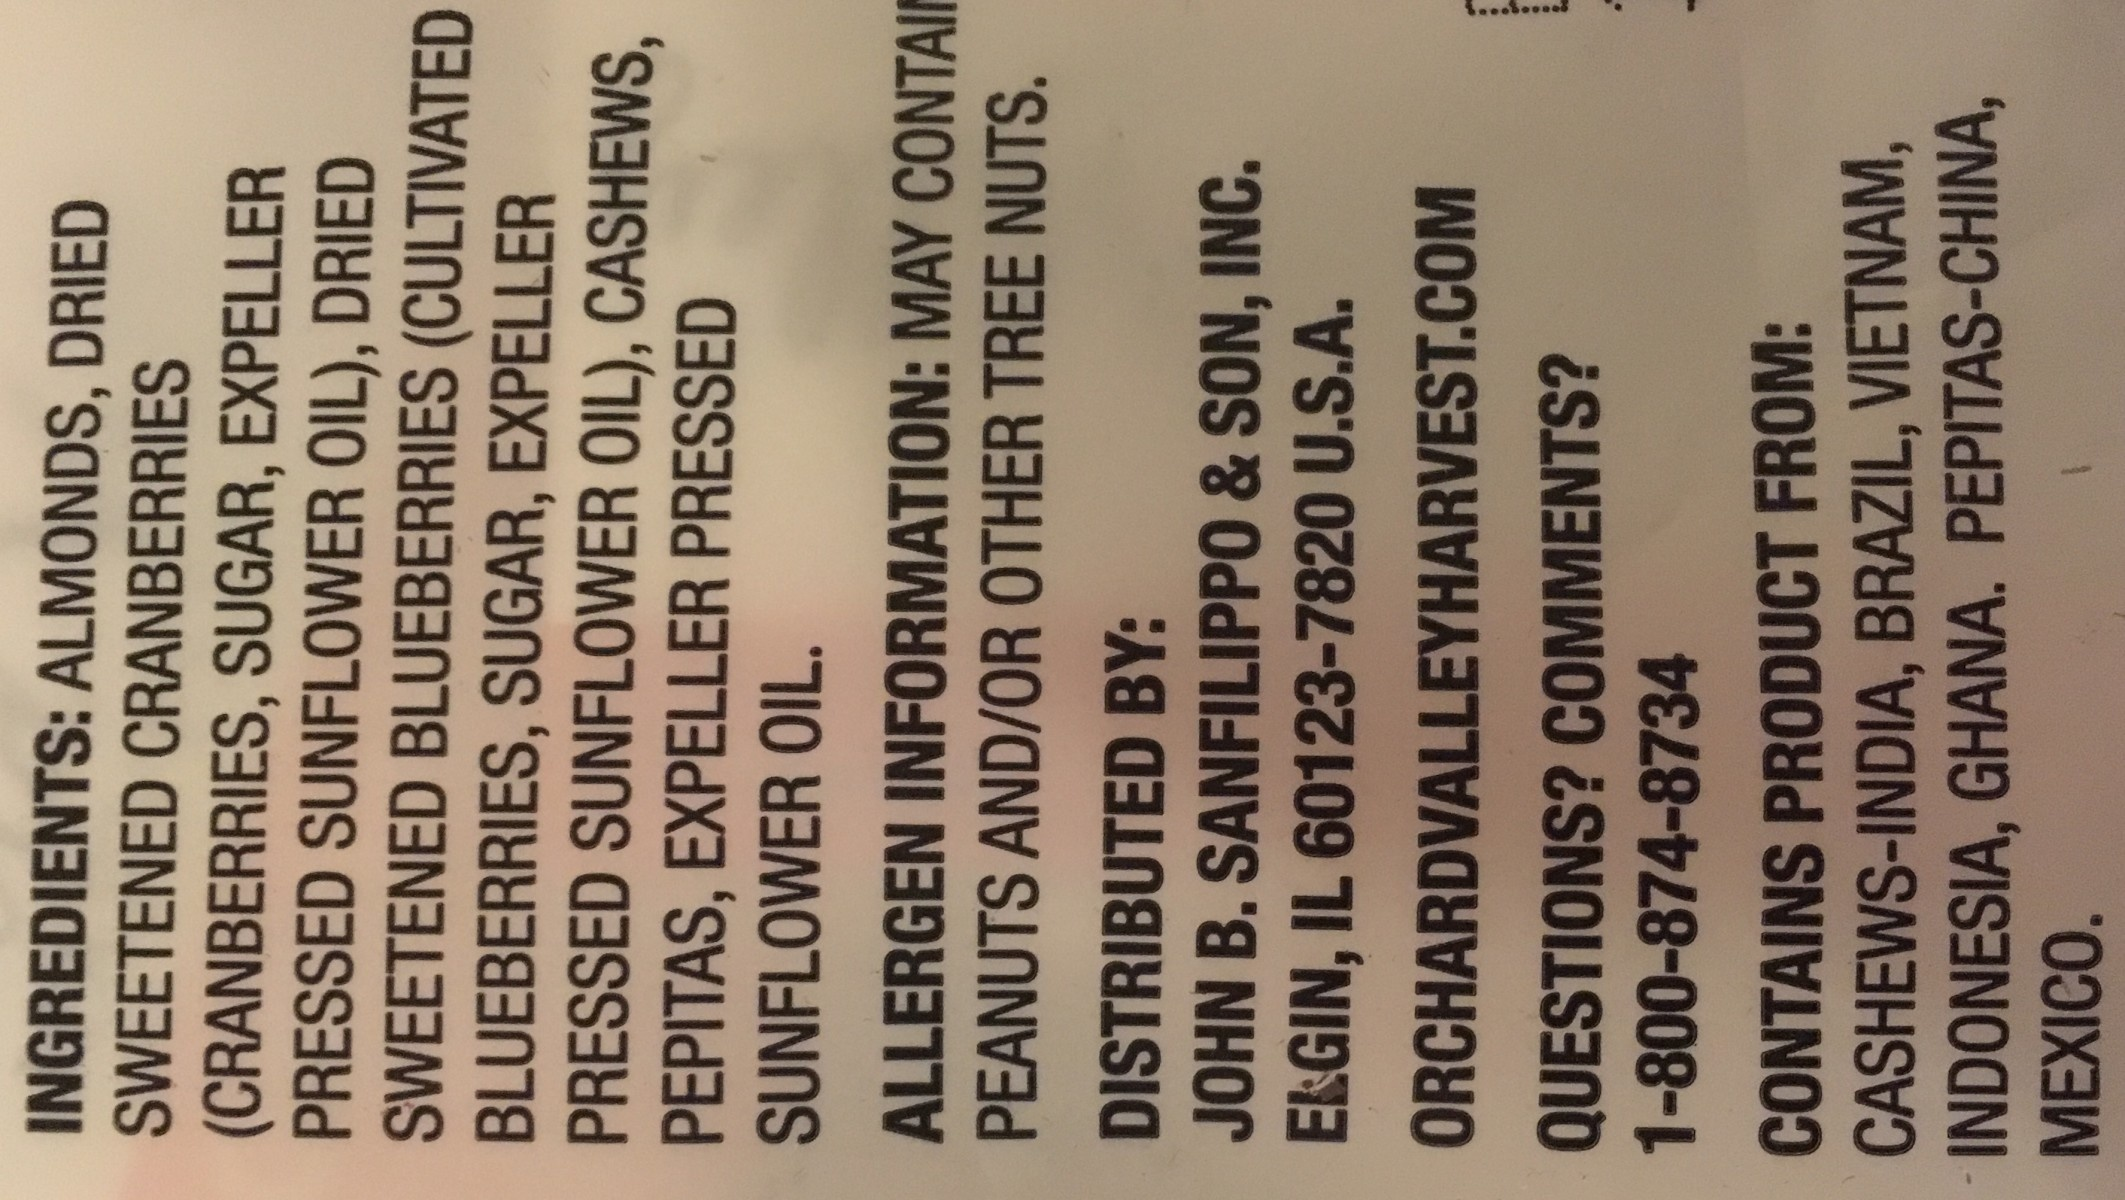ingredients: (9, 1, 849, 1185)
